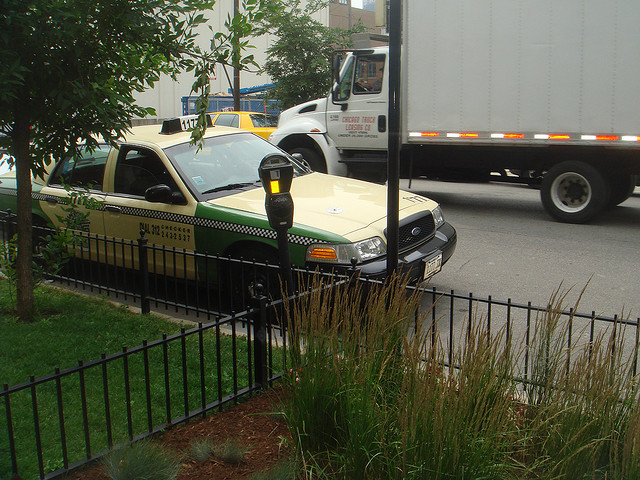Car: (2, 109, 460, 303)
Truck: (274, 1, 640, 216)
